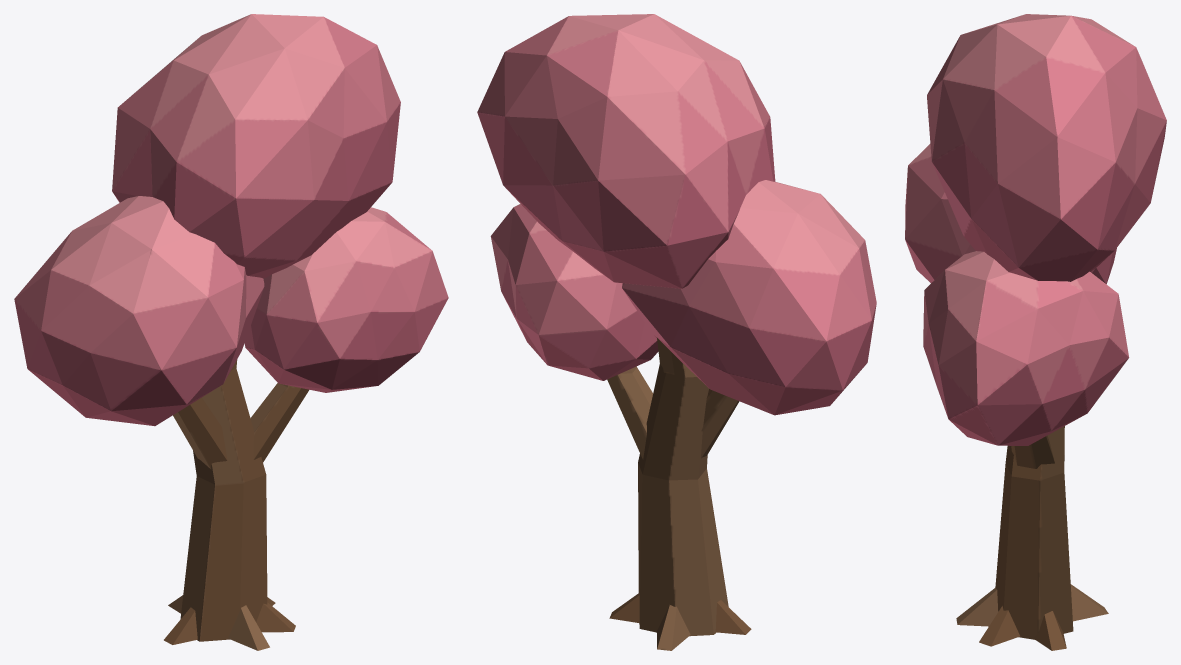
The model's file is tree-blossom.glb.
3 views of the same model, side by side, from view 1: azimuth 30°, elevation 25°; view 2: azimuth 150°, elevation 25°; view 3: azimuth 270°, elevation 25° (orthographic). The views are drawn at different scales.
Visible parts, largest first — view 1: tree-blossom; view 2: tree-blossom; view 3: tree-blossom.
Part boxes in pixels (x1,y1,x2,y2): tree-blossom: (14,14,448,650); tree-blossom: (477,14,876,650); tree-blossom: (905,14,1166,650).
Size of the model in its own units: 4.47 by 6.52 by 2.47.
Materials: 1 (1 with a texture image).
